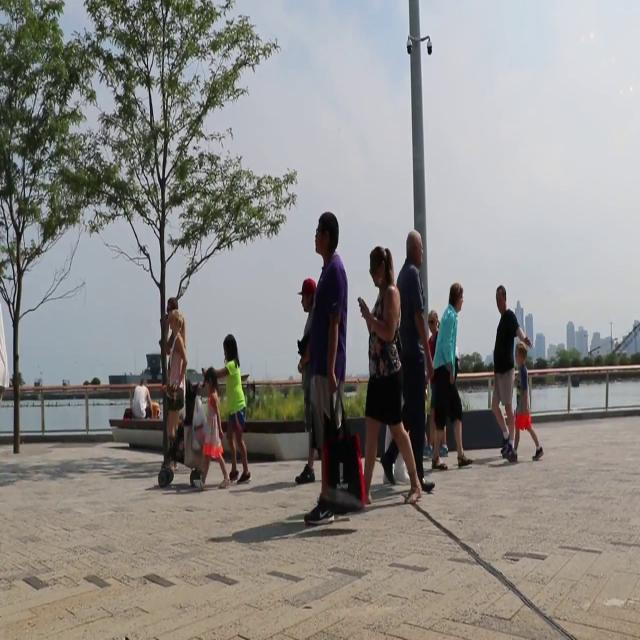normal: (354, 241, 426, 502), (300, 208, 356, 531), (489, 281, 518, 465)
